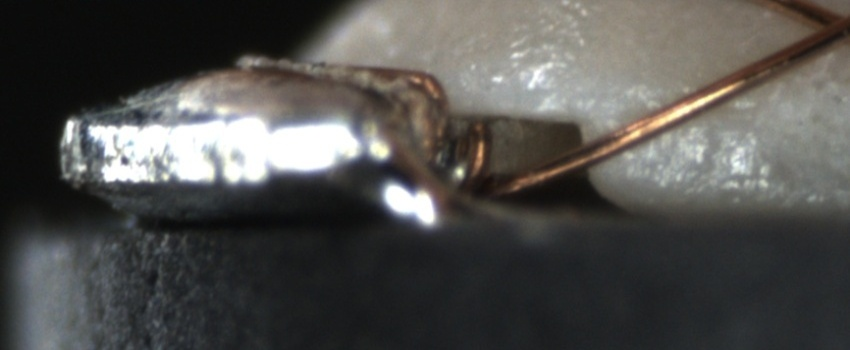CL: (796, 3, 850, 56)
DL: (613, 92, 750, 141)
TE: (381, 54, 495, 192)
